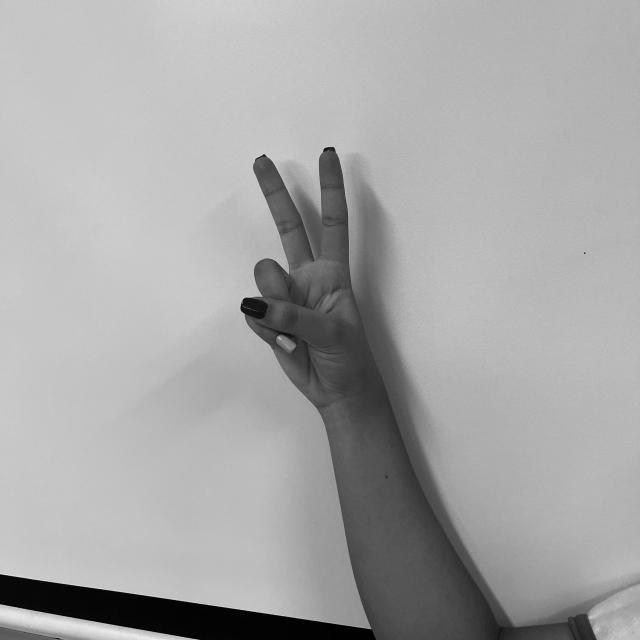Letra V: (235, 142, 388, 407)
